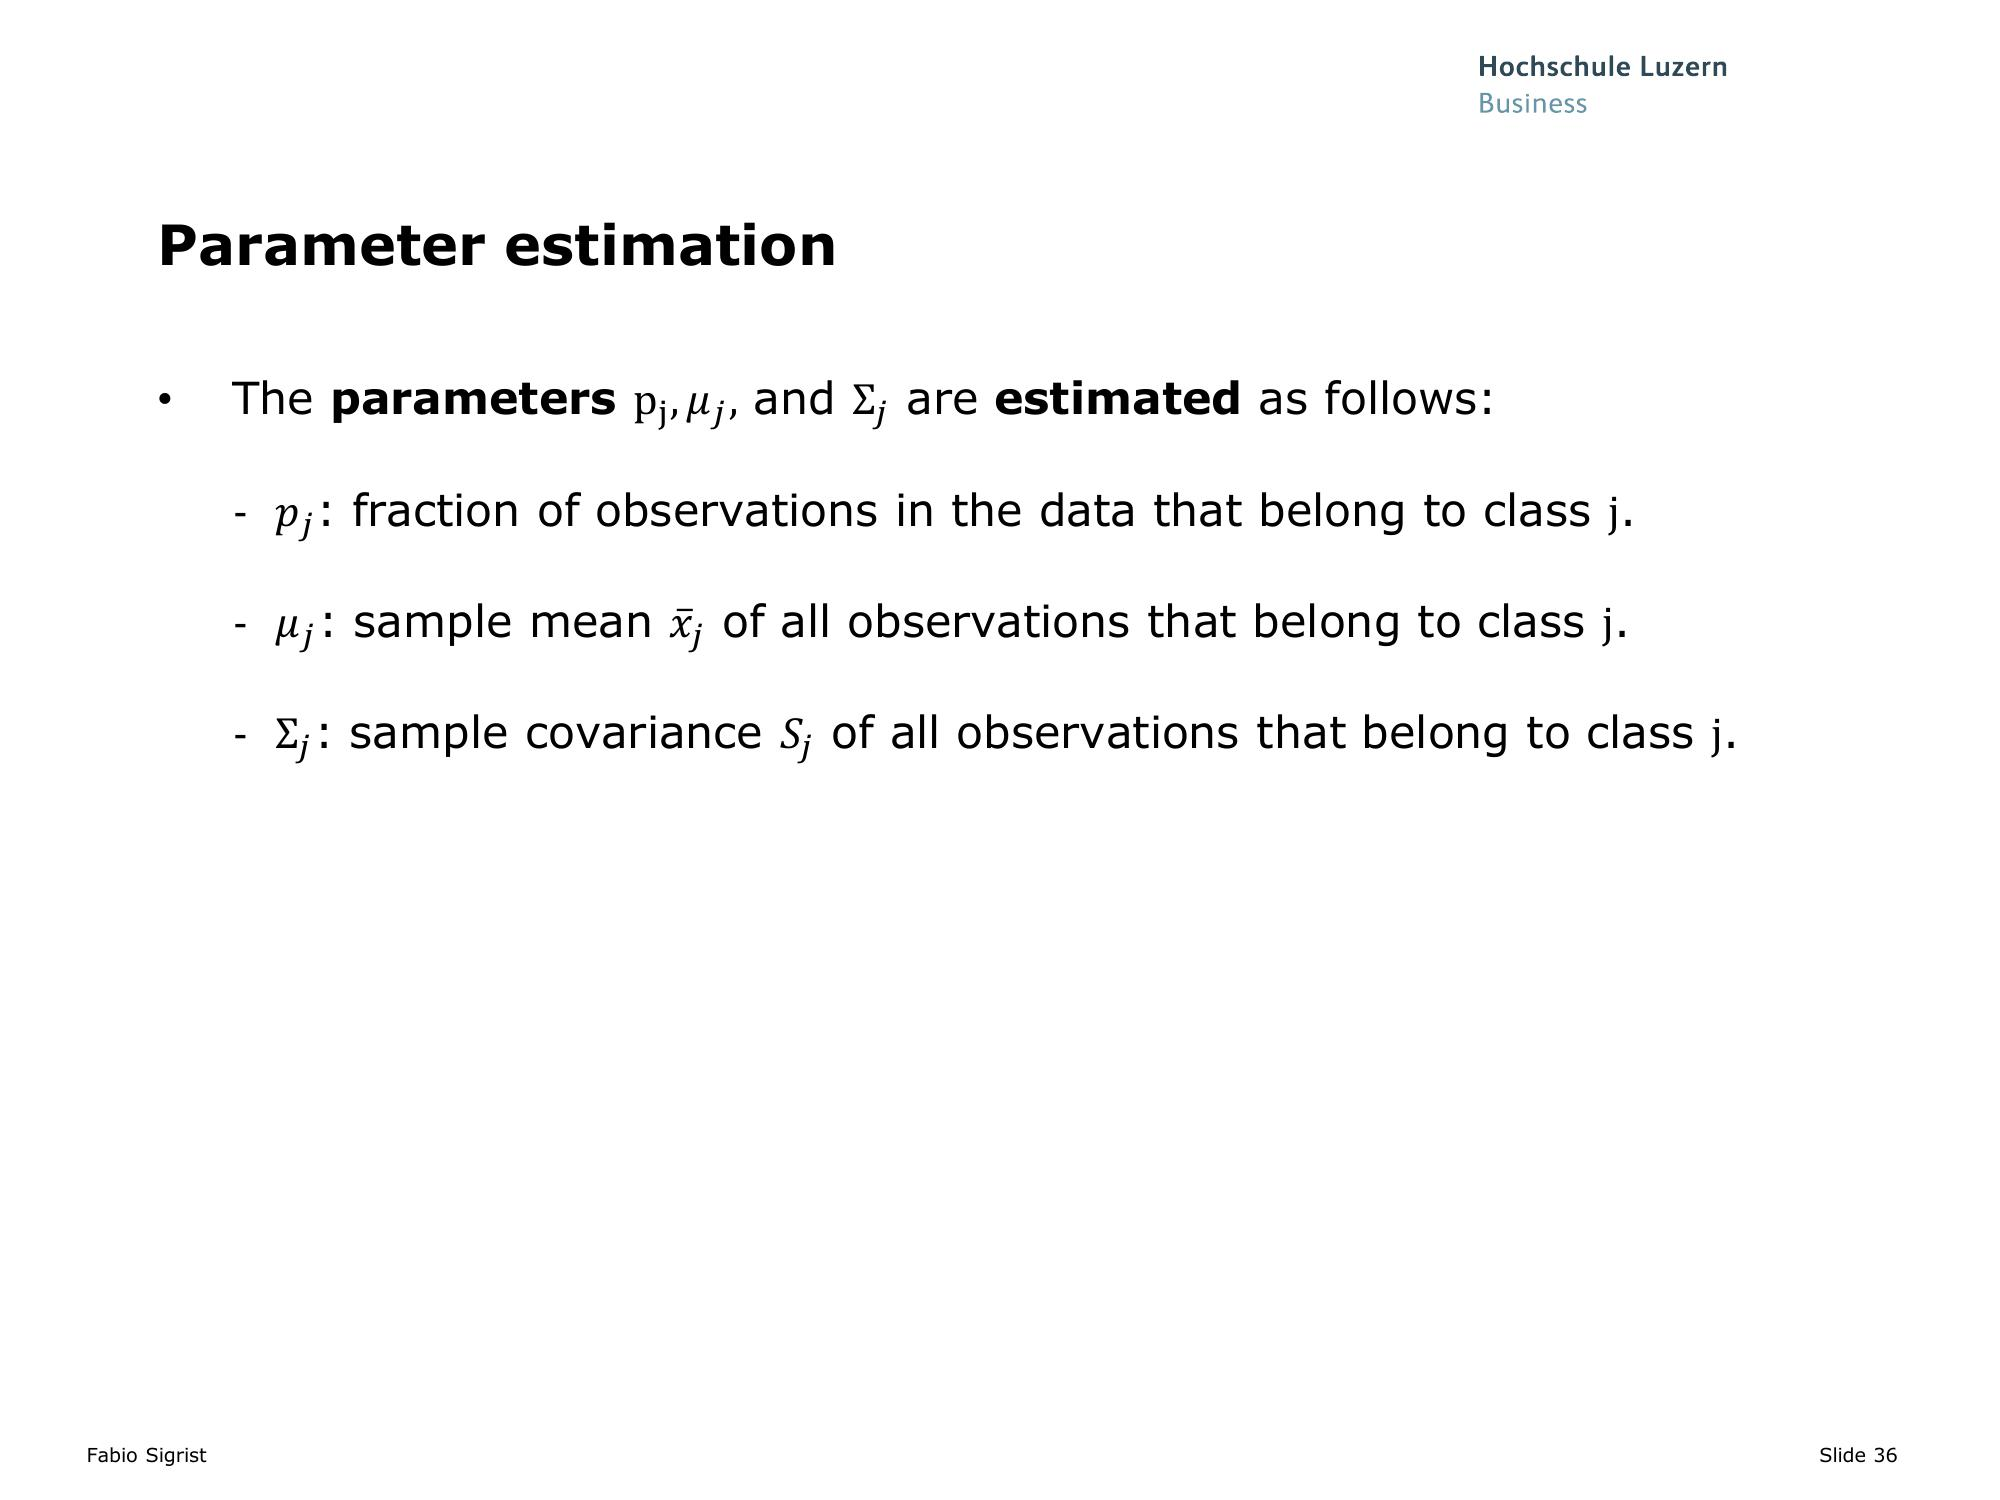Title: (154, 206, 839, 288)
